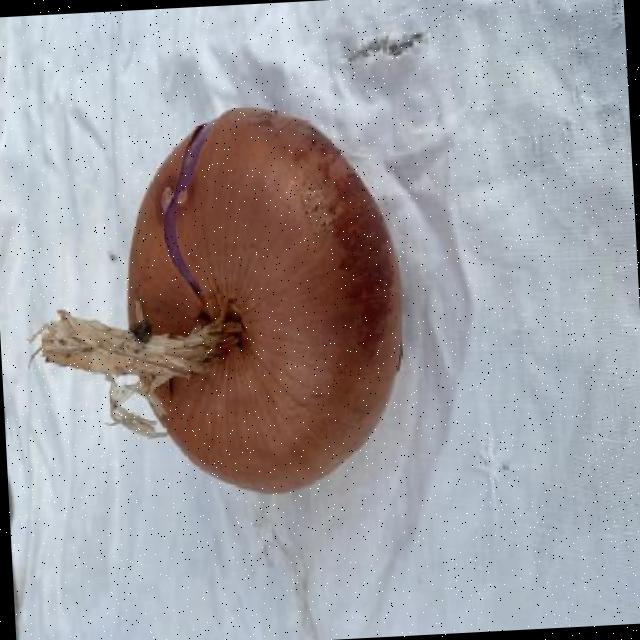Onion: (38, 106, 402, 491)
